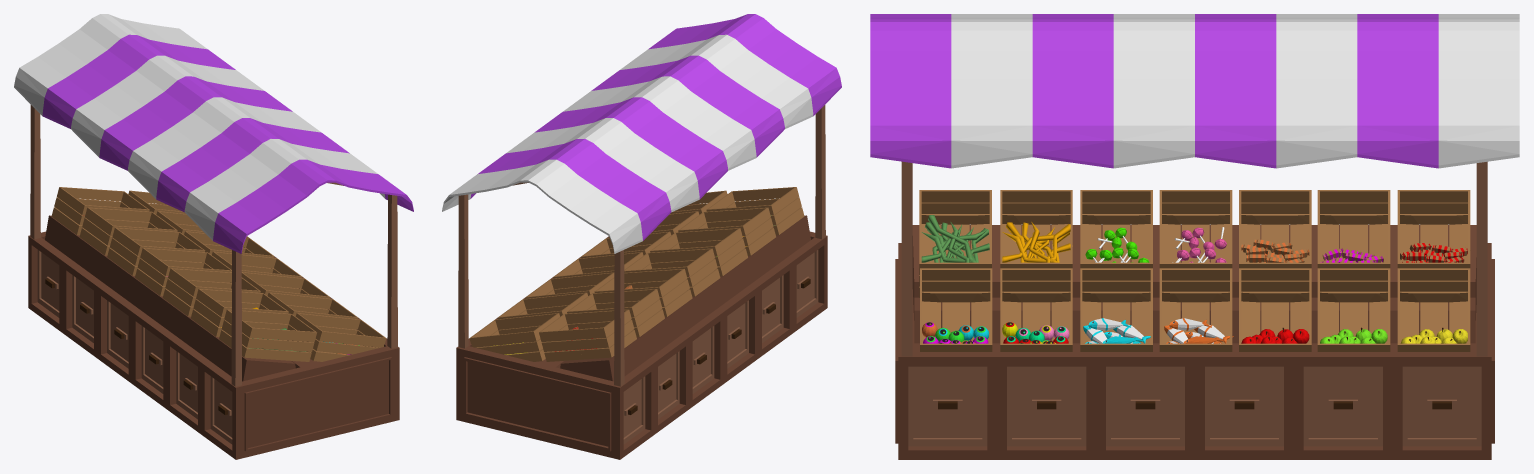
File: IngredientStandPurple.fbx
The picture shows the model from 3 angles, left to right: view 1: azimuth 30°, elevation 25°; view 2: azimuth 150°, elevation 25°; view 3: azimuth 270°, elevation 25°; orthographic projection. The views are drawn at different scales.
Visible parts, largest first — view 1: IngredientStand; view 2: IngredientStand; view 3: IngredientStand.
Part boxes in pixels (box(x1,y1,x2,y2)): IngredientStand: box(14, 14, 413, 459); IngredientStand: box(442, 14, 841, 459); IngredientStand: box(870, 14, 1519, 459).
Bounding box in the file's own units: 720 × 1065 × 1645.
